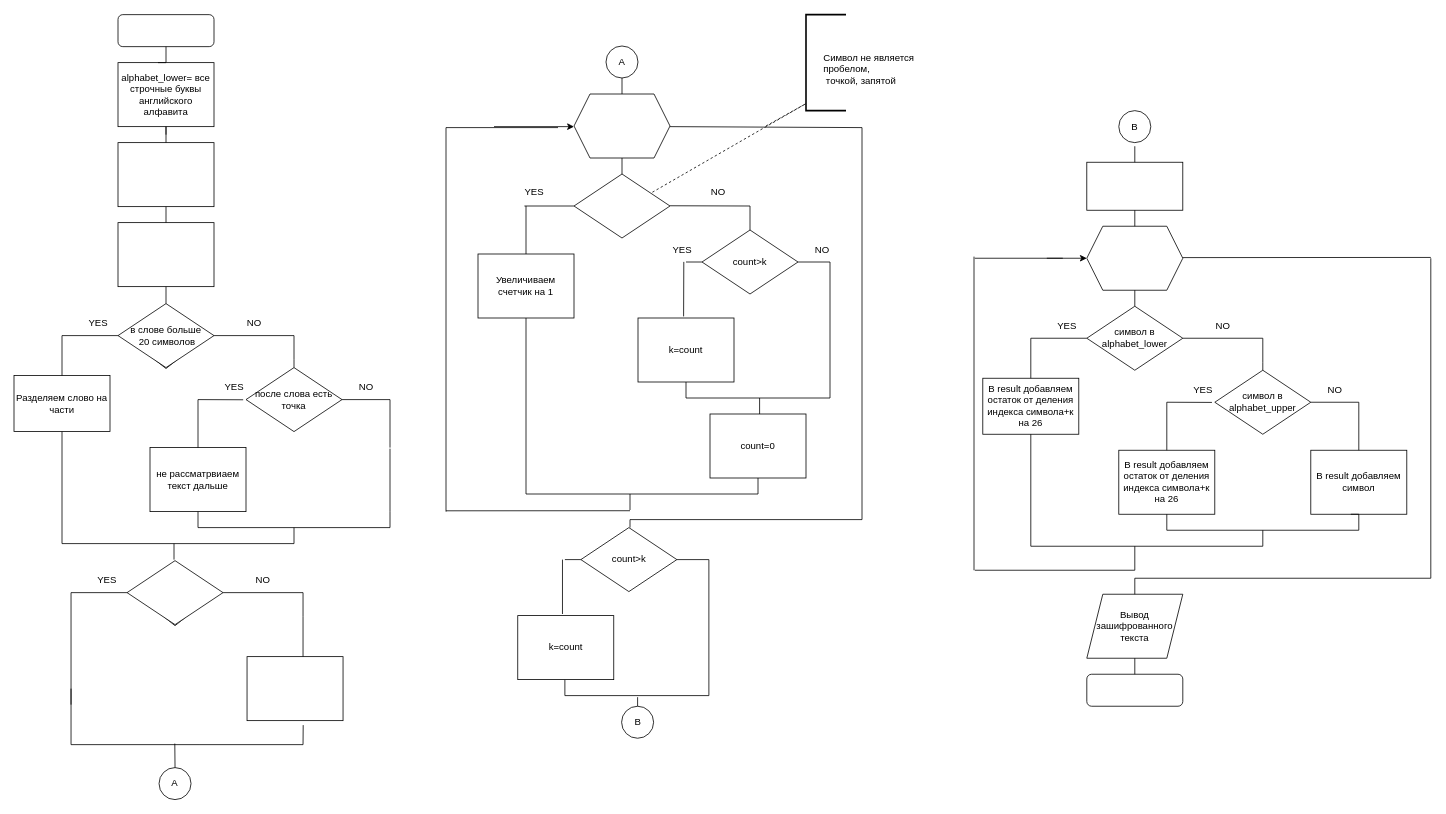
This 1446x814 diagram has some shape labels left out. The centre of each missing label's shape, as x and y in pixels:
"alphabet_upper=все заглавные буквы английского алфавита" belongs at (x=165, y=174).
"k=0 word='' count=0(счётчик)" belongs at (x=165, y=254).
"result=''" belongs at (x=1134, y=185).
"В конце текста есть точка" belongs at (x=174, y=592).
"Выводим ошибку" belongs at (x=294, y=688).
"Конец" belongs at (x=1134, y=689).
"Начало" belongs at (x=165, y=30).
"Перебираем символы в тексте" belongs at (x=1134, y=257).
"Перебор символов в тексте" belongs at (x=621, y=125).
